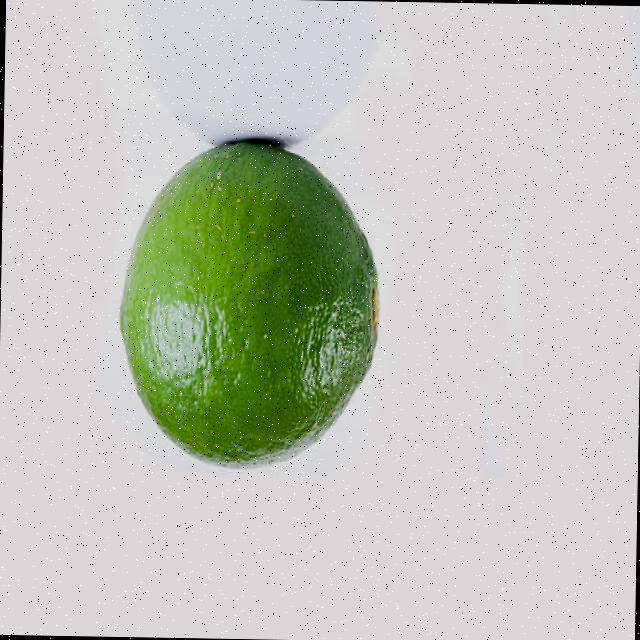Unripe: (116, 138, 382, 473)
